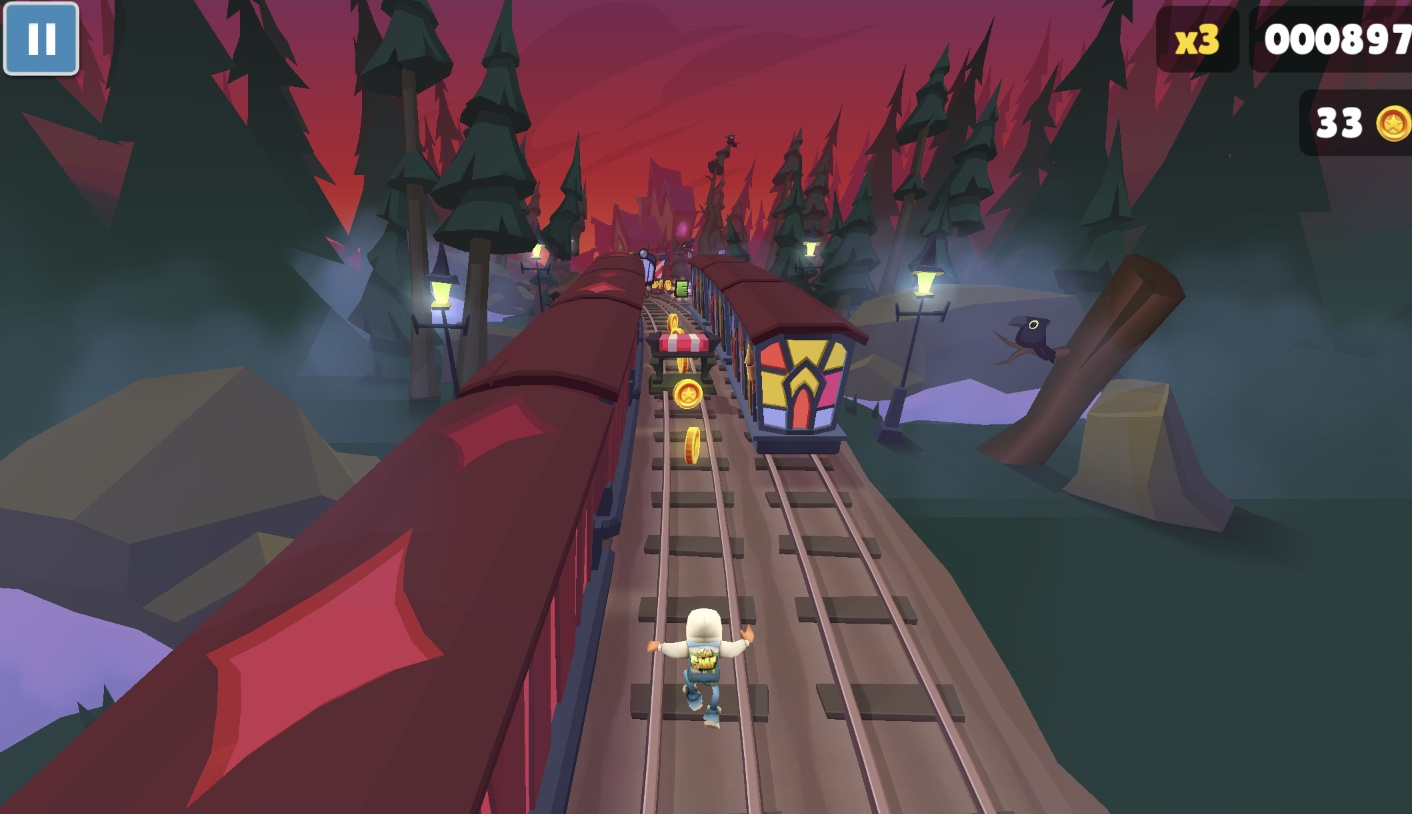ground_barrier: (645, 333, 721, 394)
overhead_barrier: (654, 253, 668, 280)
train: (93, 248, 648, 814), (686, 249, 874, 447), (636, 245, 669, 282)
